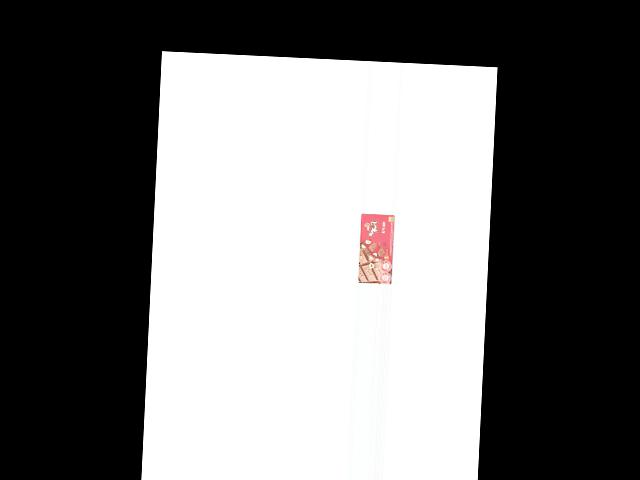chocolate: (357, 213, 395, 284)
